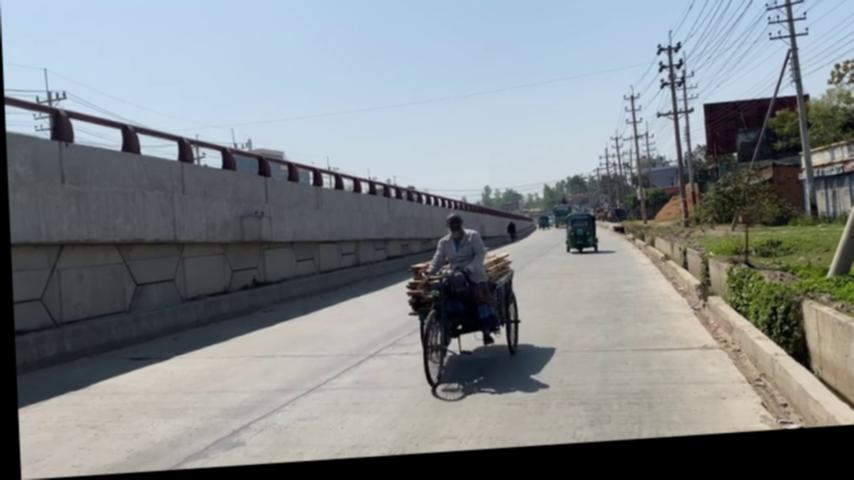Fallen-tree: (4, 63, 535, 273)
Fence: (415, 217, 494, 355), (504, 227, 514, 250)
Garbage: (757, 0, 815, 229), (654, 38, 688, 237), (819, 187, 854, 290)
Garbage-bin: (736, 297, 854, 440)
Muddy road: (404, 262, 518, 394)
Railroad-crossing: (763, 68, 854, 166)
Rickshaw: (559, 216, 602, 274), (549, 212, 570, 236)
